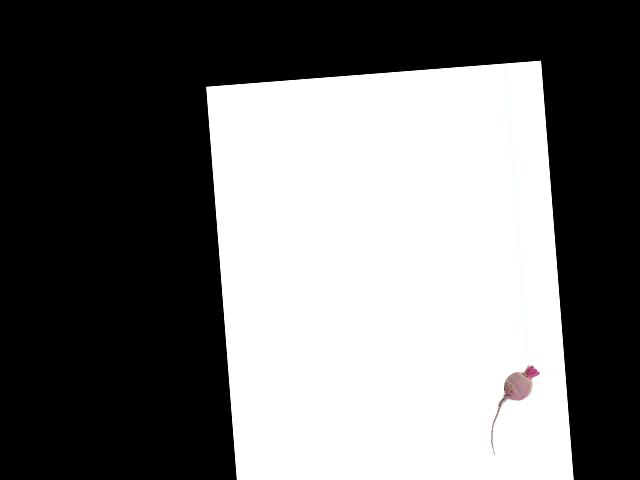beet: (485, 365, 545, 455)
